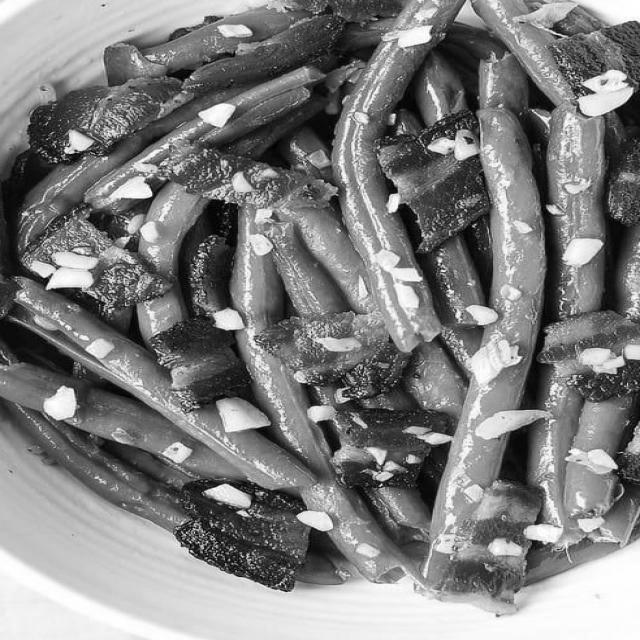Beans: (0, 0, 640, 594)
